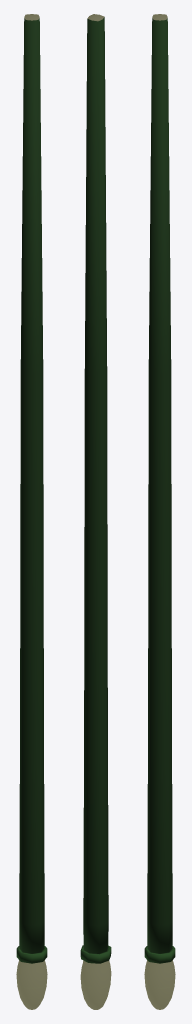
File: HangingBulb.fbx
3 views of the same model, side by side, from view 1: azimuth 90°, elevation 25°; view 2: azimuth 150°, elevation 25°; view 3: azimuth 270°, elevation 25° (orthographic).
Parts seen in each view (by area): view 1: HangingBulb; view 2: HangingBulb; view 3: HangingBulb.
Part boxes in pixels (left/top/right/bottom): HangingBulb: left=16, top=14, right=47, bottom=1009; HangingBulb: left=80, top=14, right=111, bottom=1009; HangingBulb: left=144, top=14, right=175, bottom=1009.
Bounding box in the file's own units: 2.43 × 85.61 × 2.43.
Materials: 1 (1 with a texture image).
